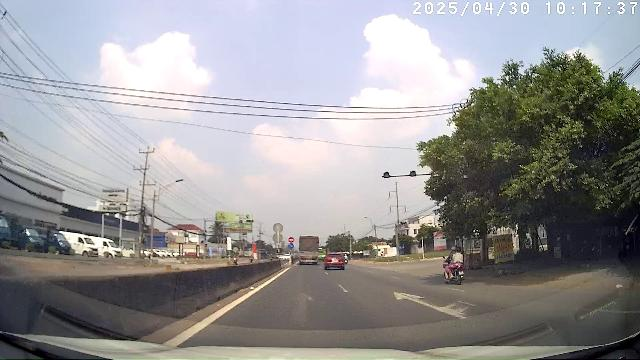102-cam-di-nguoc-chieu: (288, 238, 294, 242)
302a-huong-phai-di-vong-chuong-ngai-vat-1: (288, 243, 294, 249)
